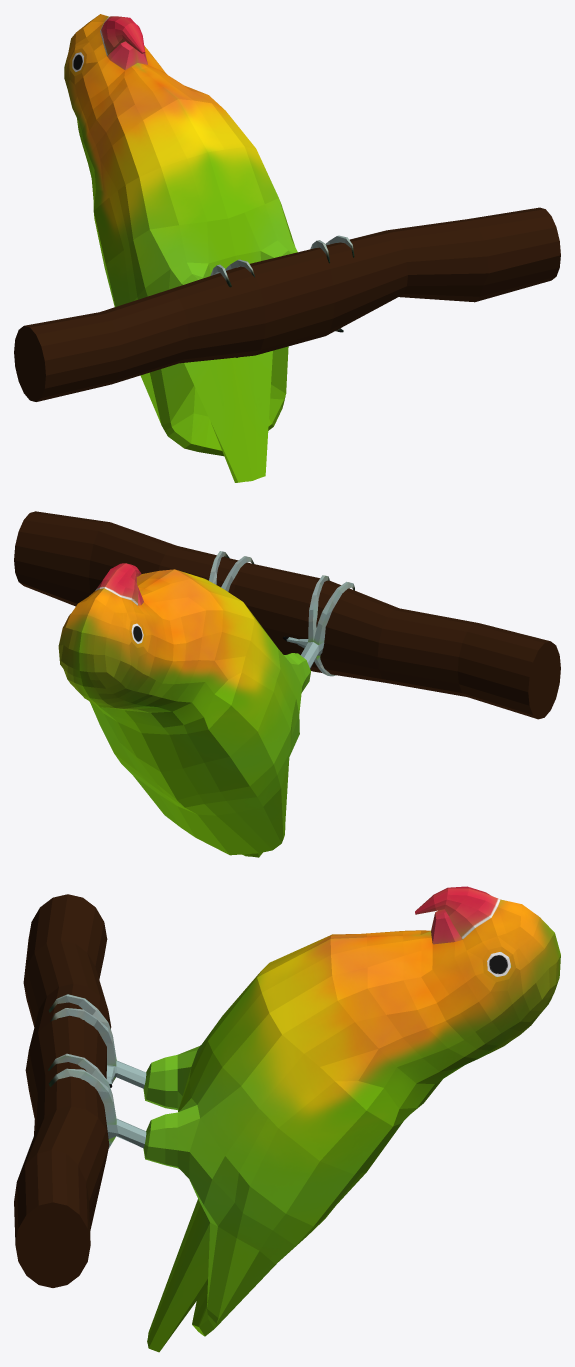
3 renders of one model, top to bottom at view 1: azimuth 30°, elevation 25°; view 2: azimuth 150°, elevation 25°; view 3: azimuth 270°, elevation 25°, orthographic. The views are drawn at different scales.
Parts seen in each view (by area): view 1: NIAO02_2, NIAO02; view 2: NIAO02_2, NIAO02; view 3: NIAO02_2, NIAO02.
Part boxes in pixels (<box>): NIAO02_2: <box>64,14,354,482</box>; NIAO02: <box>14,207,560,401</box>; NIAO02_2: <box>58,551,354,857</box>; NIAO02: <box>14,511,560,719</box>; NIAO02_2: <box>48,886,560,1352</box>; NIAO02: <box>14,894,111,1287</box>.
Bounding box in the file's own units: 123 × 93.05 × 86.08.
